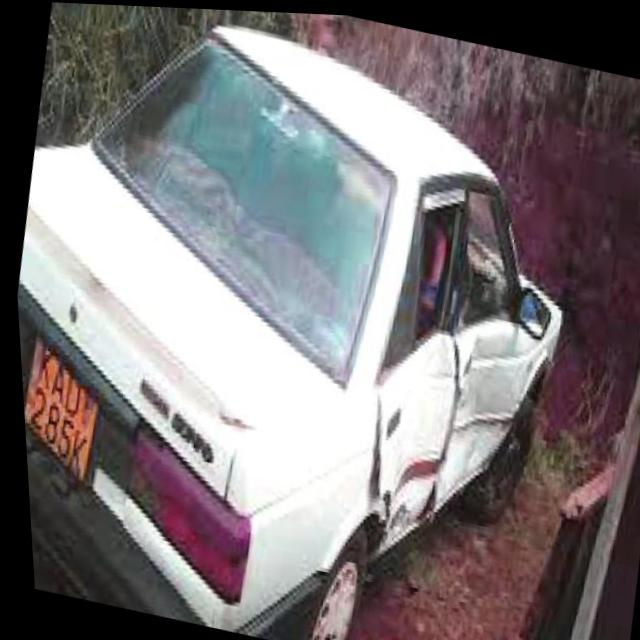Car-Damage: (337, 158, 583, 569)
